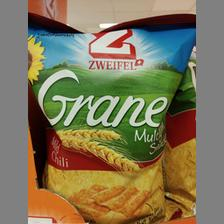Chips: (26, 30, 194, 218)
